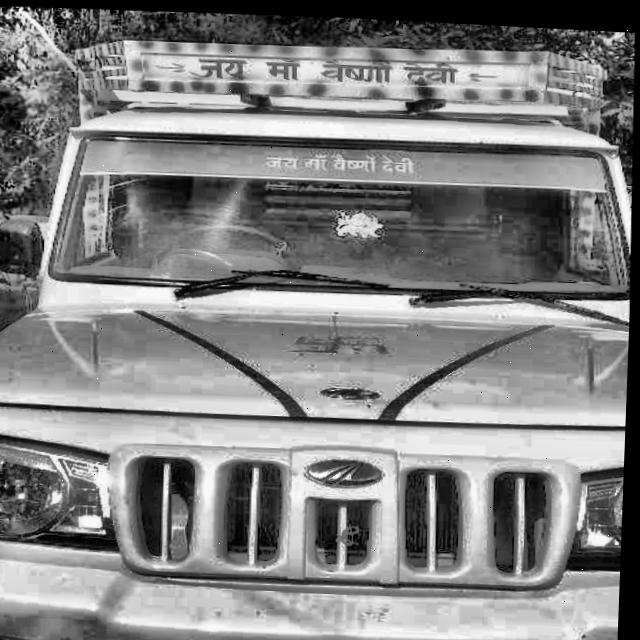light_vehicle: (0, 35, 639, 640)
